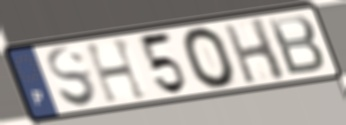5: (133, 30, 189, 96)
B: (265, 13, 328, 78)
H: (220, 15, 289, 86), (82, 36, 151, 106)
O: (180, 25, 239, 91)
S: (45, 44, 100, 110)
